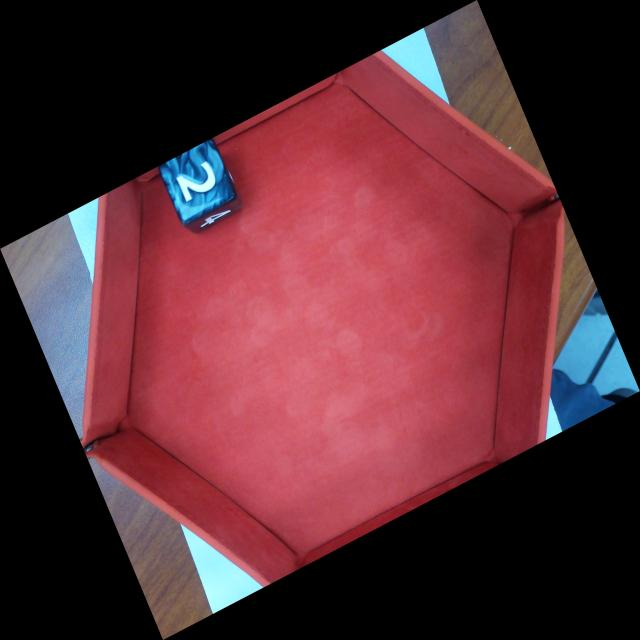dice: (155, 137, 240, 225)
